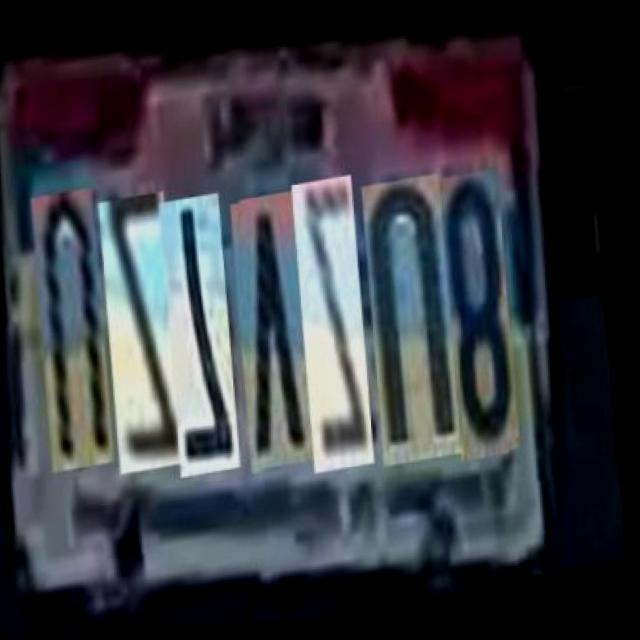7: (165, 202, 251, 489)
8: (443, 191, 529, 485)
u: (366, 193, 473, 488), (37, 191, 125, 479)
v: (235, 206, 326, 487)
z: (104, 199, 197, 483), (297, 192, 385, 491)
